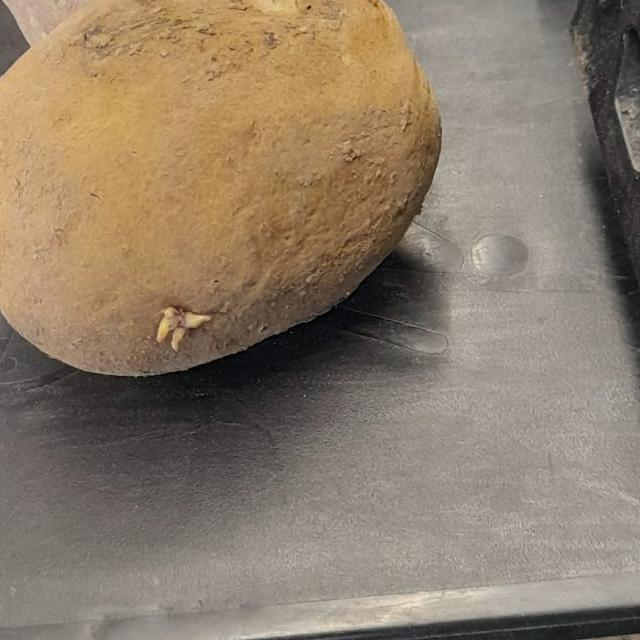potato: (0, 0, 460, 403)
